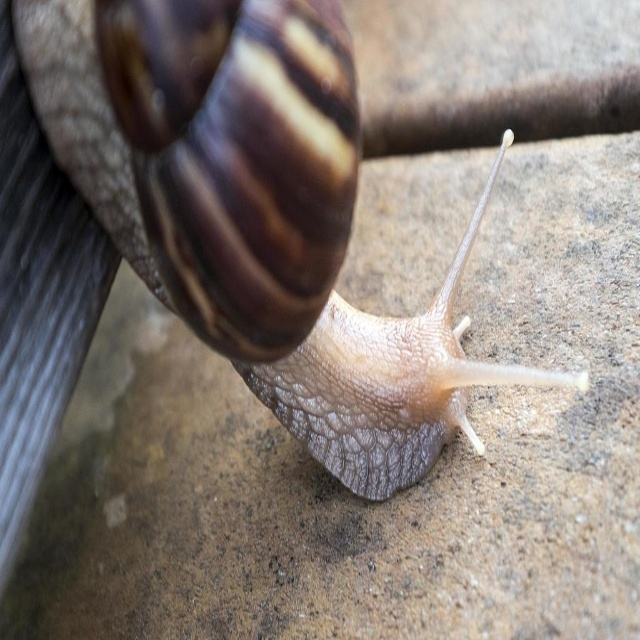Snail: (13, 0, 592, 504)
